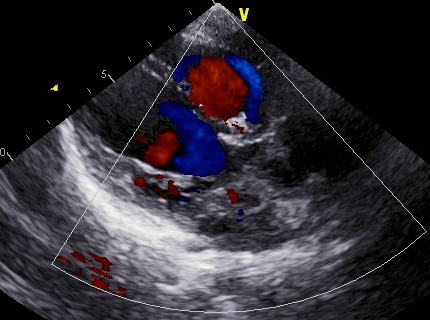AR: (139, 131, 194, 169)
